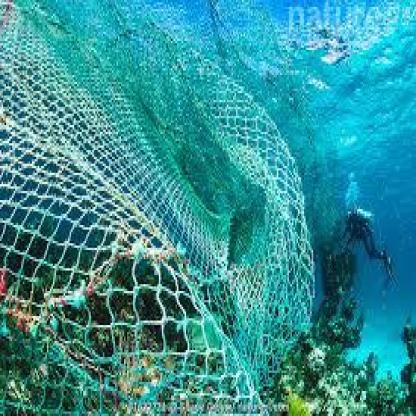net: (1, 4, 310, 416)
